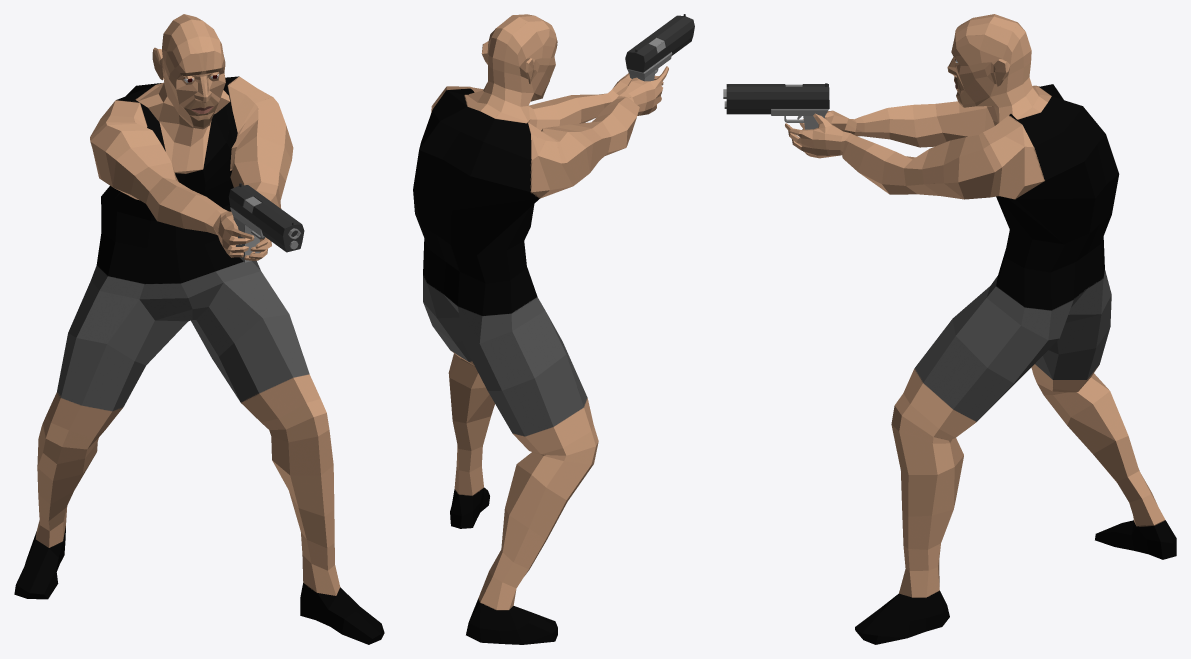
The model's file is PlayerShoot(28).obj.
3 views of the same model, side by side, from view 1: azimuth 30°, elevation 25°; view 2: azimuth 150°, elevation 25°; view 3: azimuth 270°, elevation 25° (orthographic). The views are drawn at different scales.
Visible parts, largest first — view 1: Plane002, Box003; view 2: Plane002, Box003; view 3: Plane002, Box003.
Part boxes in pixels (x1,y1,x2,y2): Plane002: (14, 14, 384, 644); Box003: (228, 183, 304, 262); Plane002: (413, 14, 668, 644); Box003: (625, 14, 694, 81); Plane002: (785, 14, 1176, 644); Box003: (723, 83, 829, 151).
Bounding box in the file's own units: 713 × 1665 × 1205.
